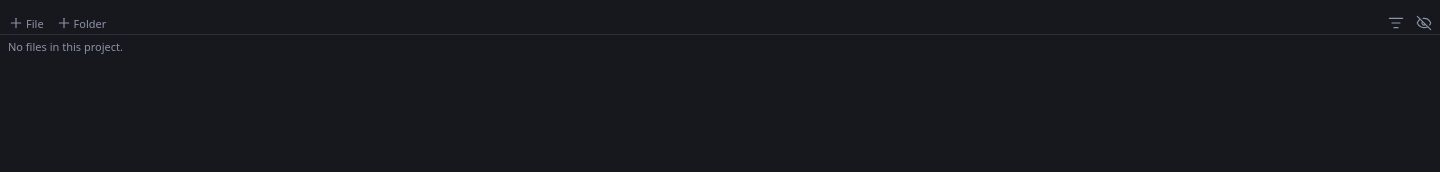
Test: creating an entry › shows the backend's error and keeps the field open on failure
Click the button with aria-label "New file" at coordinates (26, 23), box [4, 12, 48, 34]
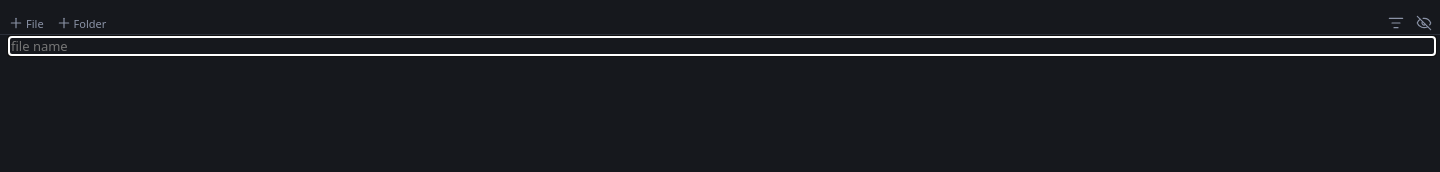
Type "deploy.yaml" into the field named "new file name" at coordinates (722, 46), box [8, 36, 1436, 56]
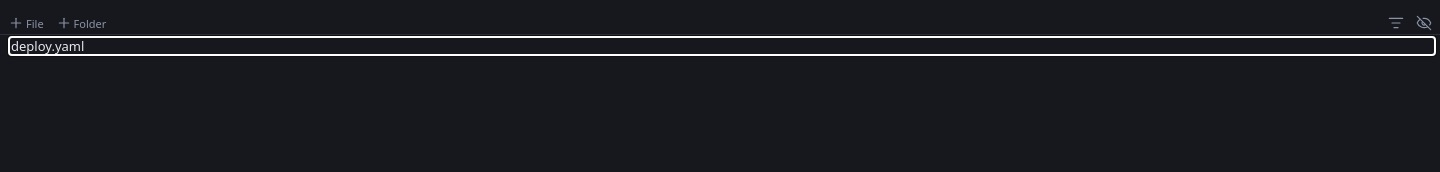
Press Enter in the field named "new file name", box [8, 36, 1436, 56]
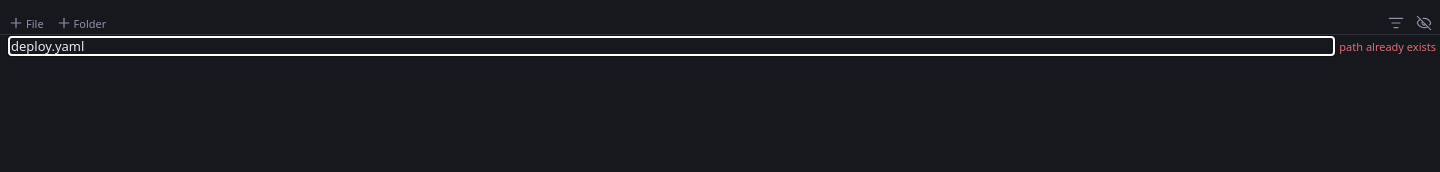
Result: the text "path already exists" is shown at [1339, 38, 1436, 54]
